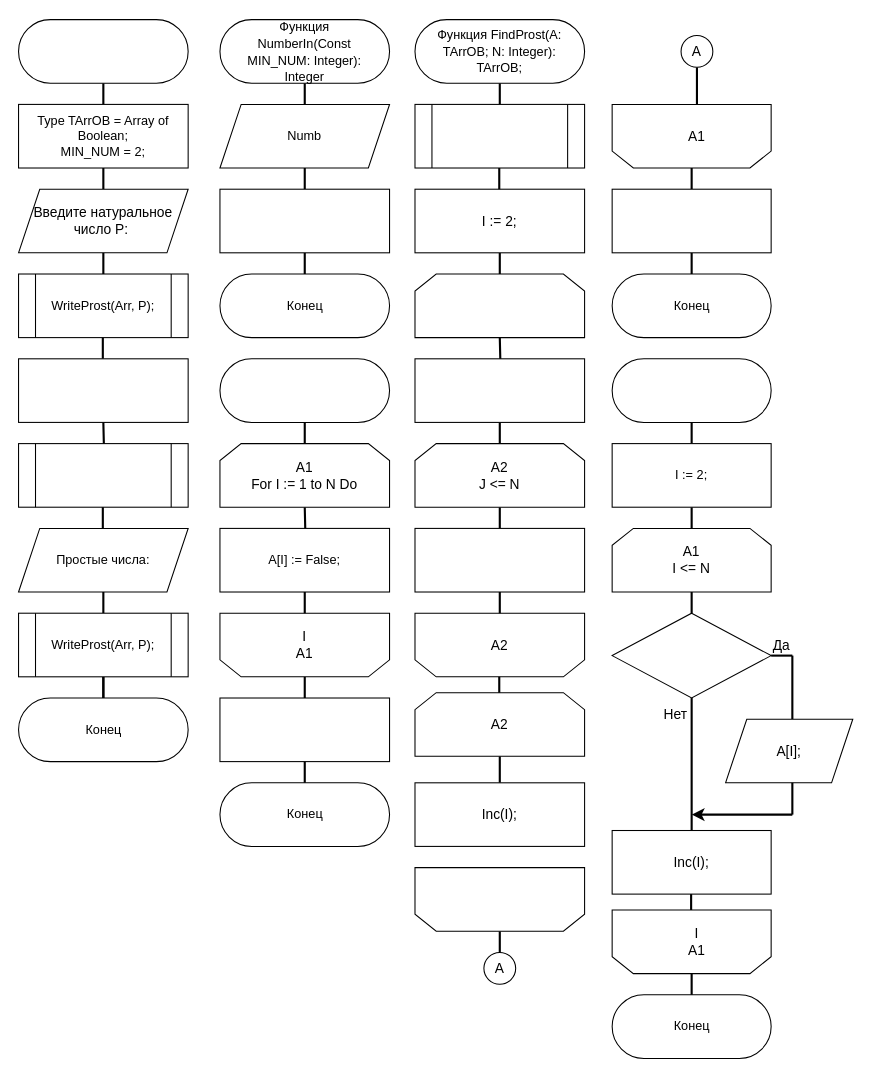
Image size: 871x1077. Some labels were removed from this diagram. The box of each missing label's shape, as (x1, y1, x2, y2) in pixels:
A1 I <= Sqrt(N): (414, 273, 585, 338)
A[J] := True; Inc(J,I);: (414, 527, 585, 592)
Arr := FindProst(Arr, P);: (17, 443, 188, 507)
Arr := Zanulenie(Arr, P);: (414, 103, 585, 168)
FindProst := A;: (611, 188, 771, 253)
J := I * I;: (414, 358, 585, 422)
Not(A[I]): (611, 612, 771, 698)
Not(A[I]); A2: (414, 867, 585, 931)
NumberIn := Numb;: (219, 188, 390, 253)
SetLength(Arr, P + 1);: (17, 358, 188, 422)
Zanulenie := A;: (219, 697, 390, 762)
Начало: (17, 19, 188, 83)
Процедура WriteProst(A: TArrOB; N: Integer);: (611, 358, 771, 422)
Функция Zanulenie(A: TArrOB; N: Integer): TArrOB;: (219, 358, 390, 422)
